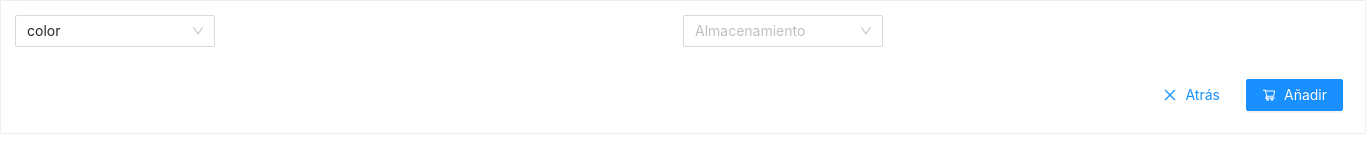
Test: product Actions test suite › click accept button and color is defined but sotrage not
Click the button "Añadir" at (1294, 95), box [1246,79,1343,111]
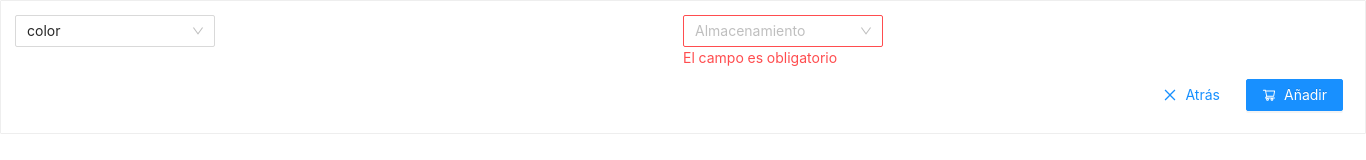
Result: the text "El campo es obligatorio" is shown at [683,49,837,66]
